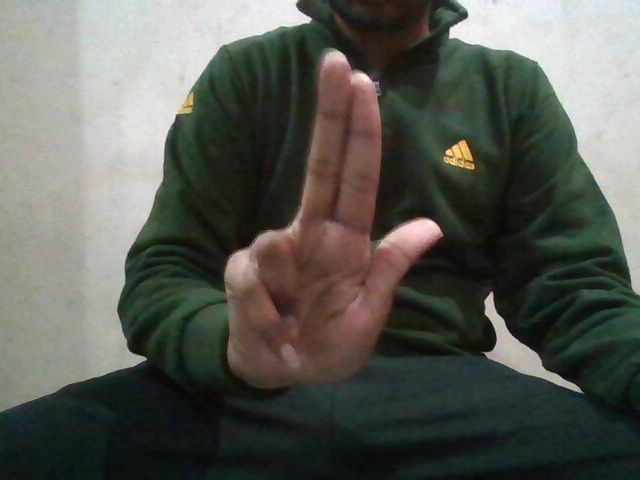K: (225, 49, 440, 382)
